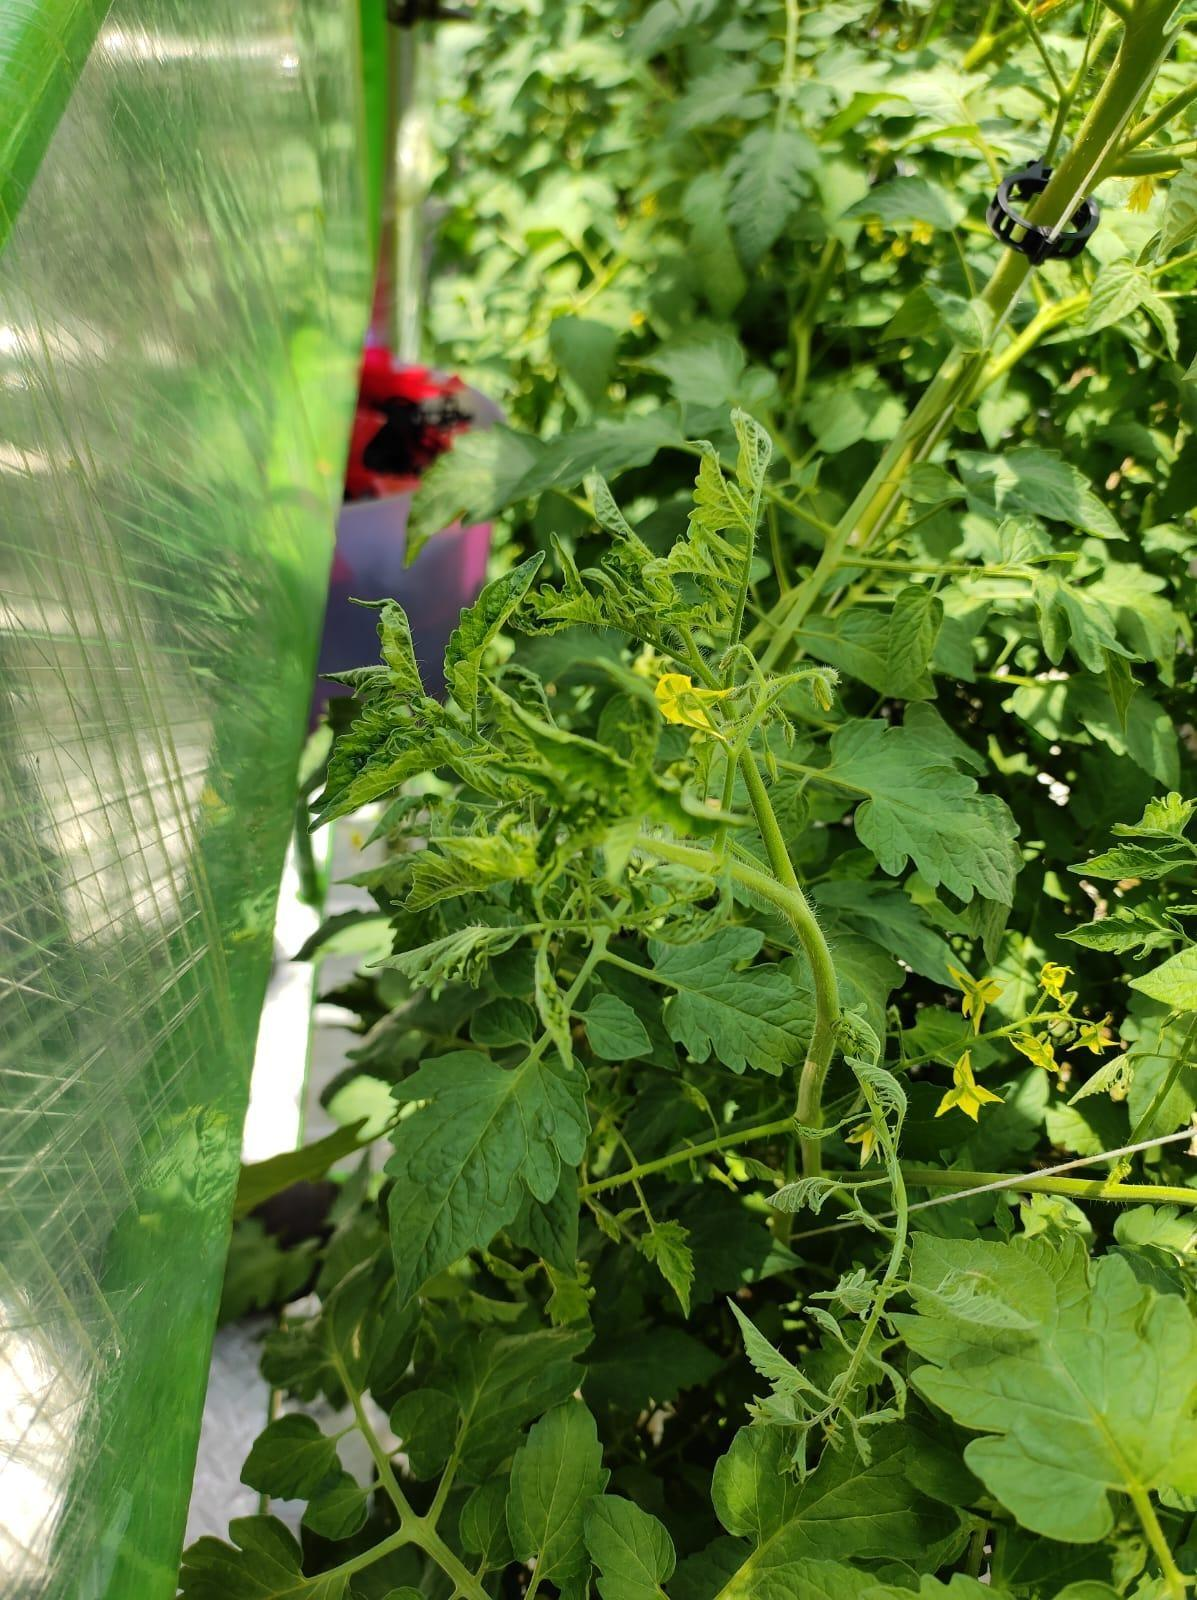Hoja: (898, 1237, 1194, 1599), (385, 1053, 588, 1302)
